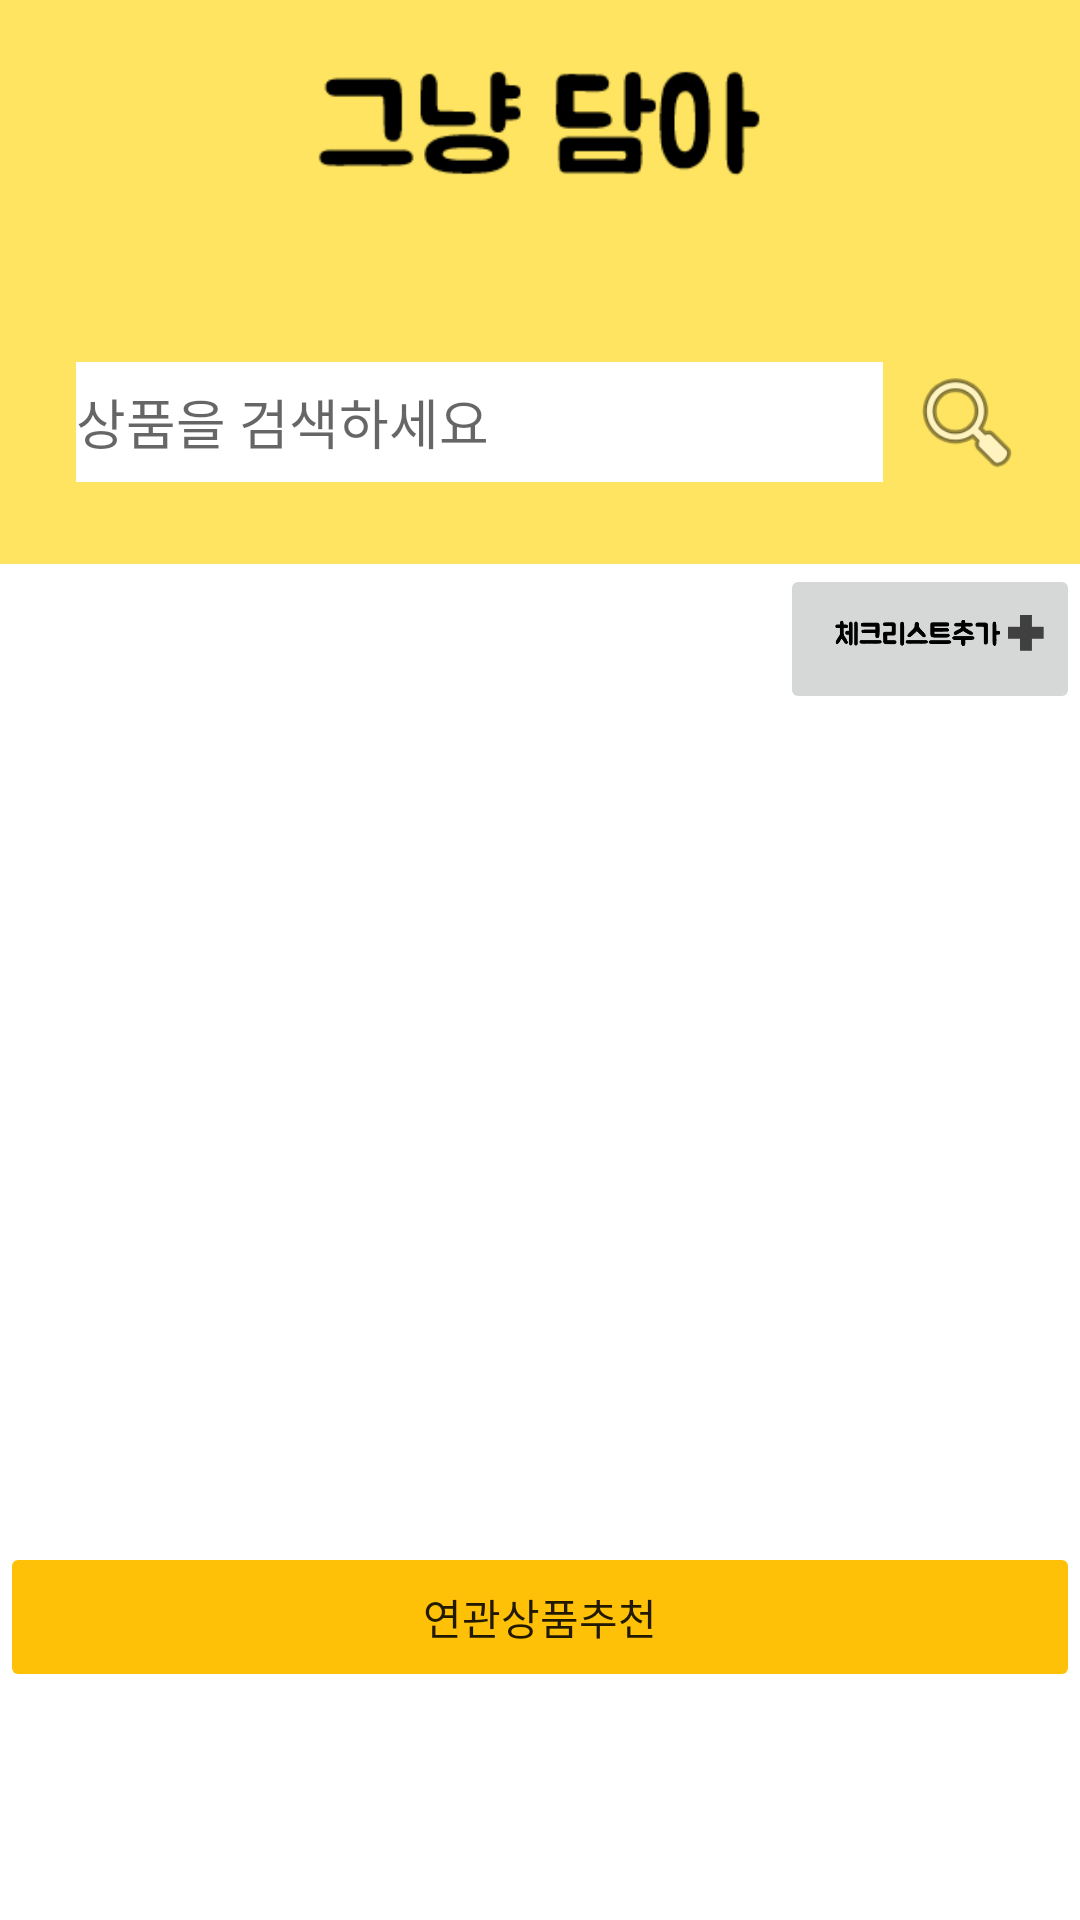

Where icons sit on this 1080 x 1920 app screen, as [x1, y1, x2, y2]:
search: [922, 378, 1011, 467]
